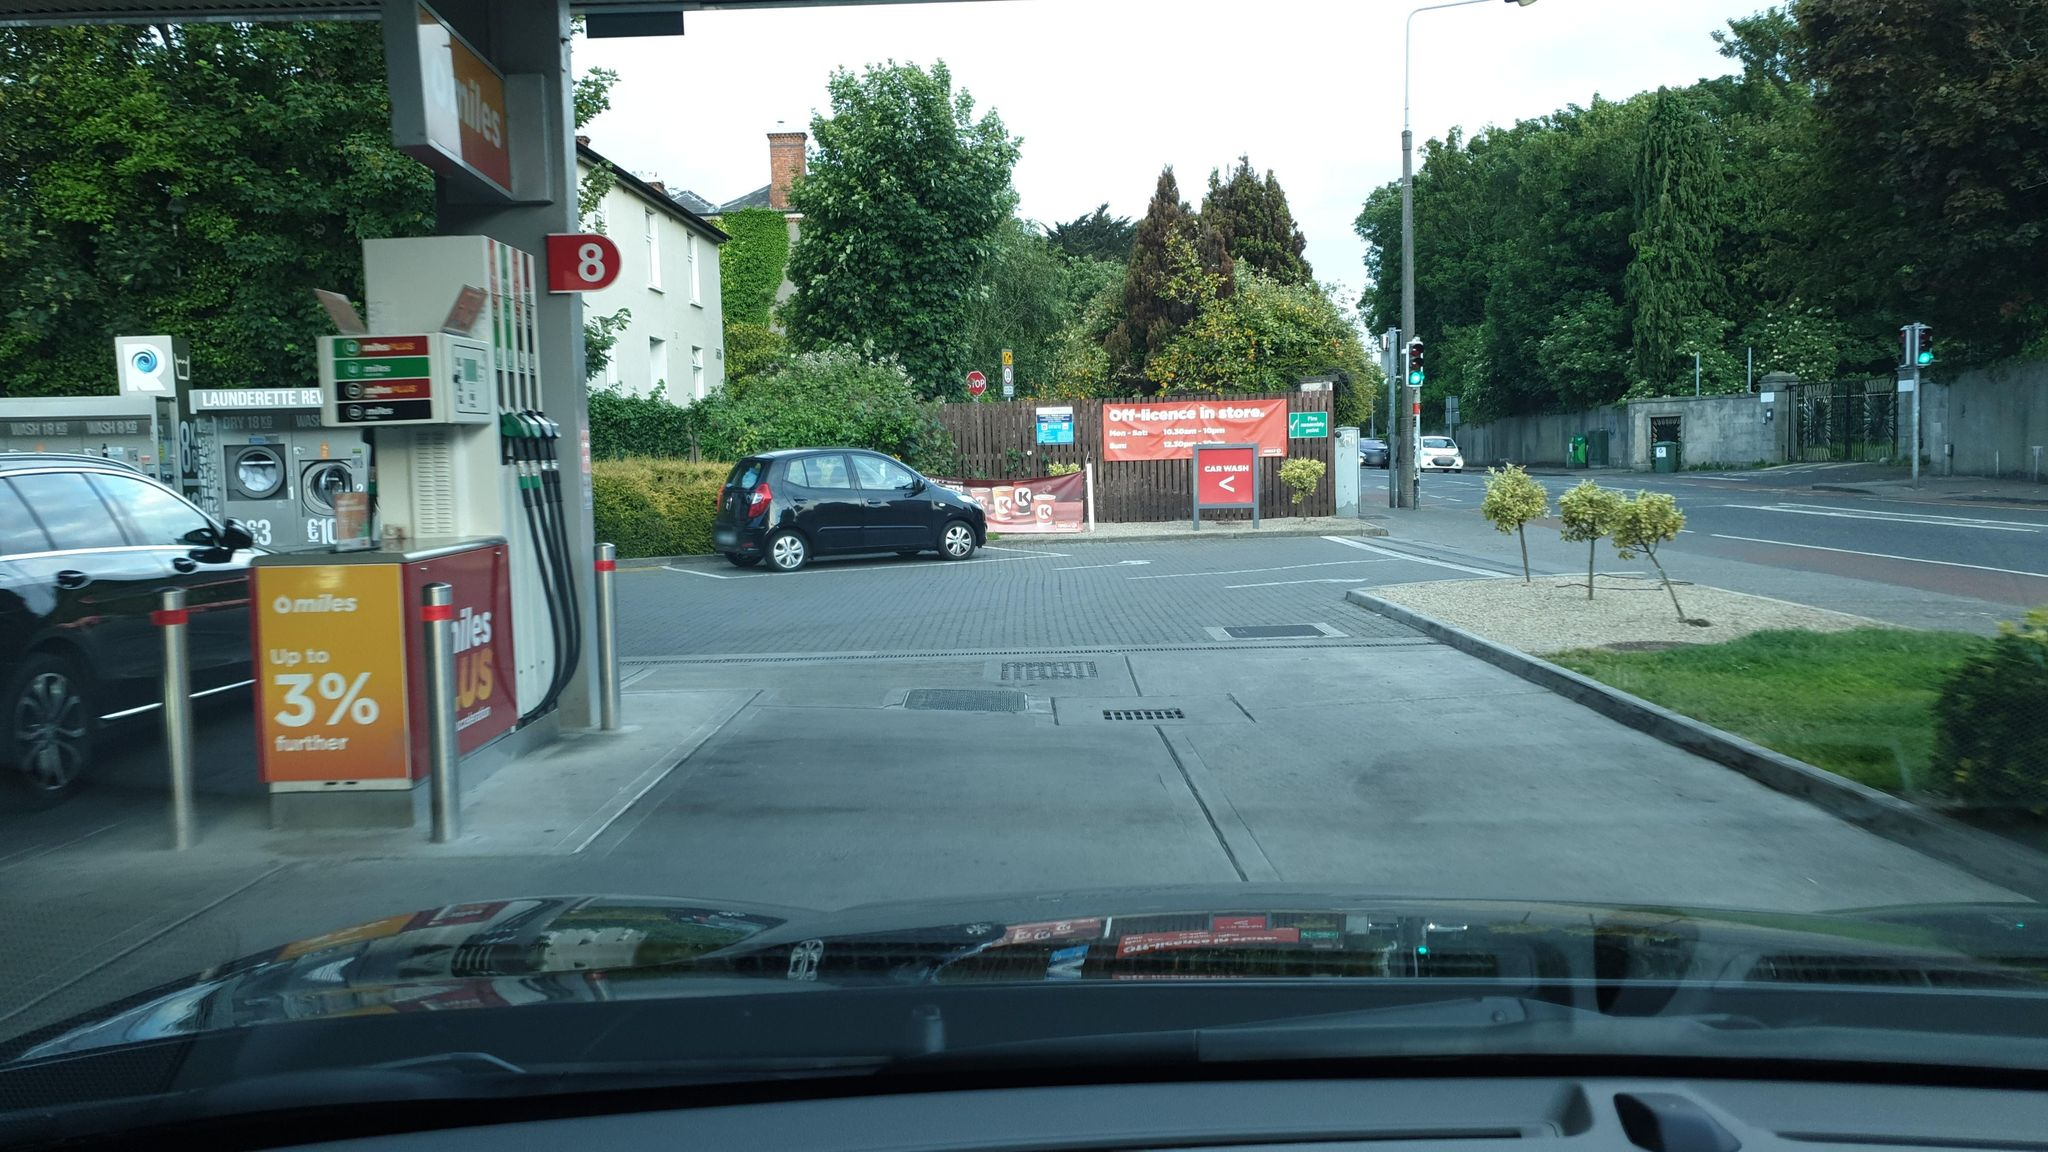vinyl banner: (1097, 391, 1305, 466), (924, 464, 1101, 535)
